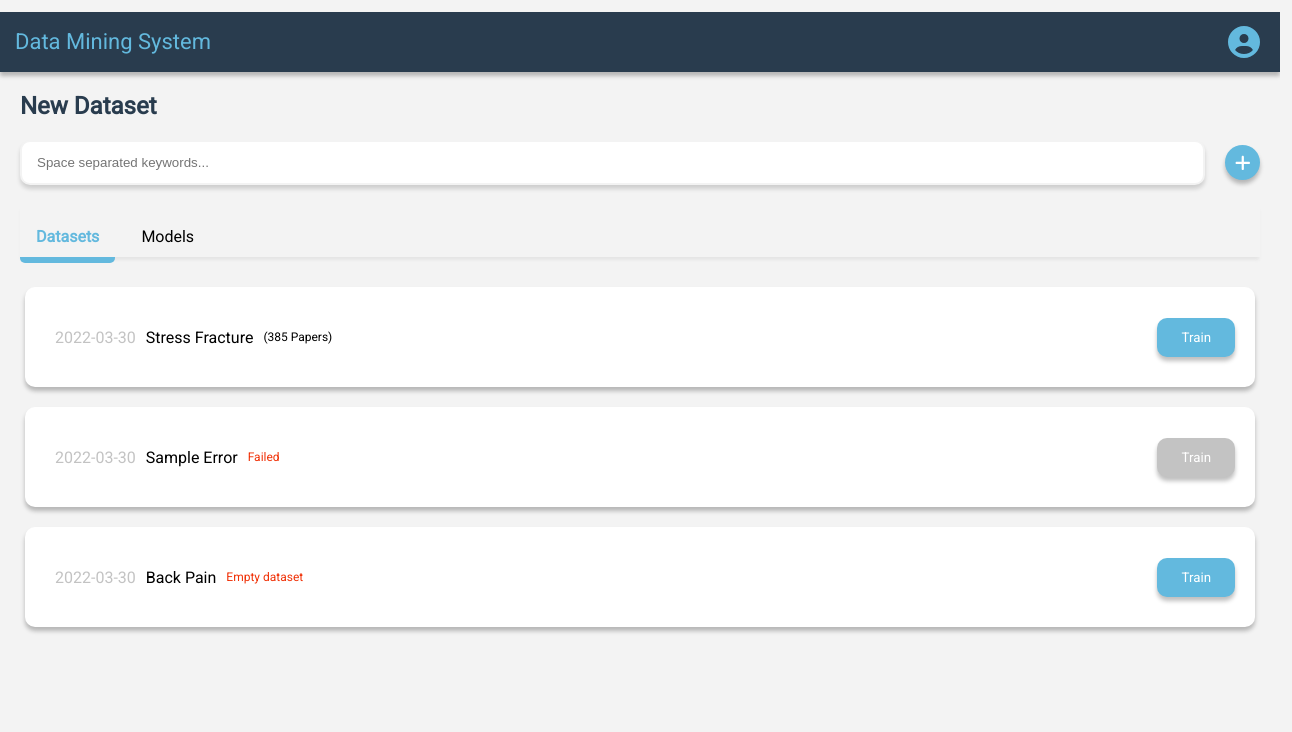
Scenario: Hyperparameter Adjustment Page › White box tests › should show generic error message on API fail
Click the button "Train" in the row of "Papers)".
click(1196, 338)  # box [1157,318,1235,357]
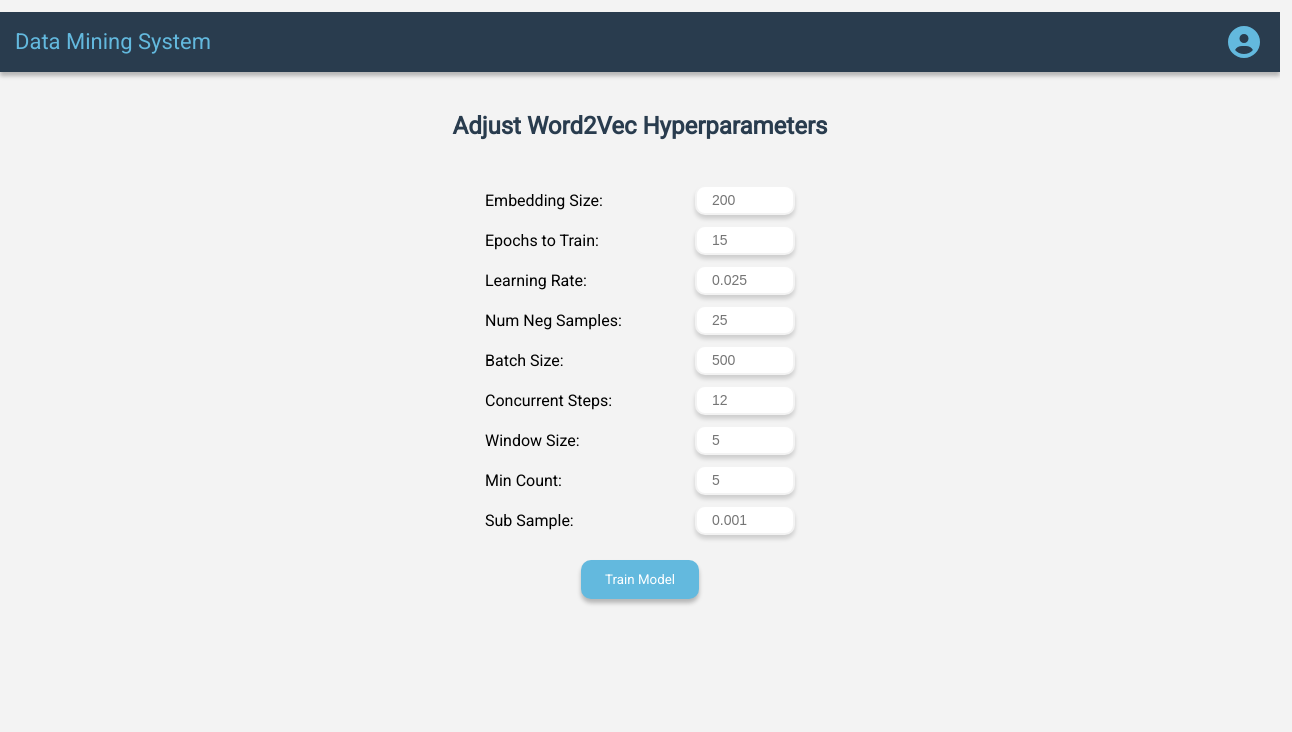
Click the button "Train Model".
click(640, 580)  # box [581,560,699,599]
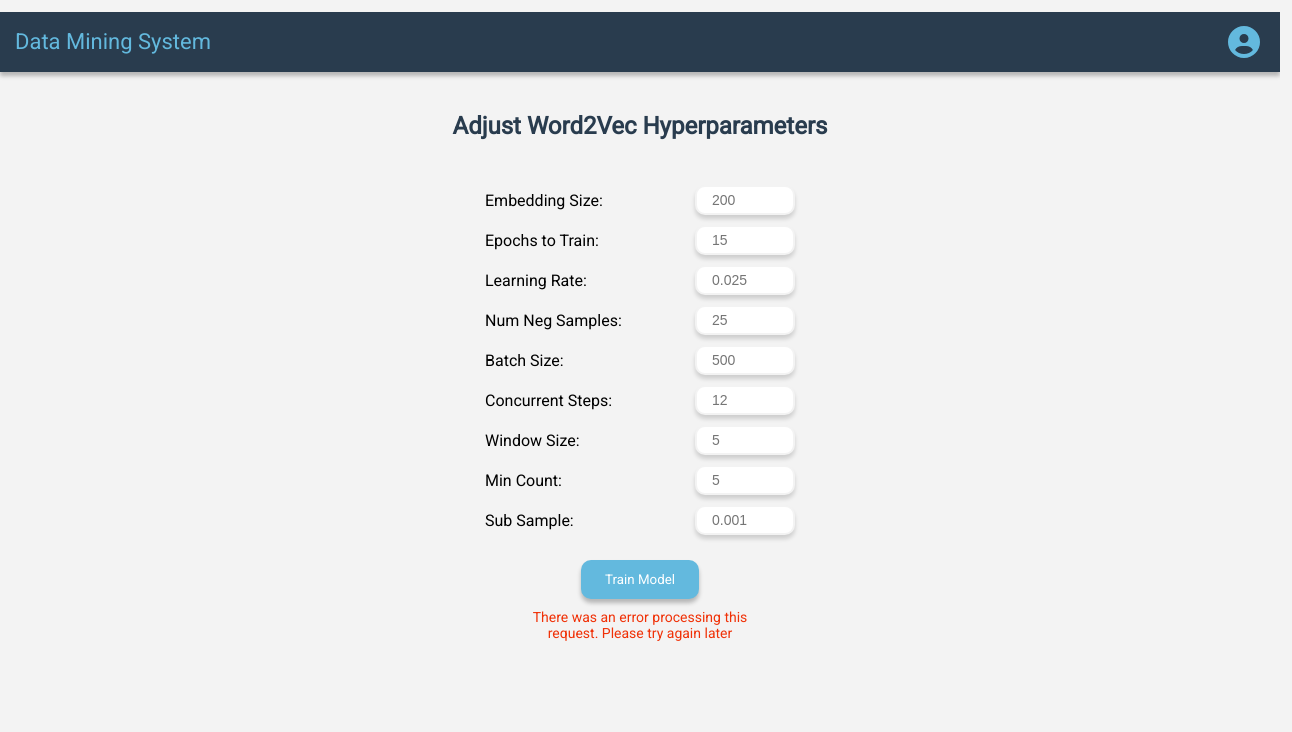
Expected: the text "There was an error processing this request. Please try again later" is shown, [533,609,747,641]
